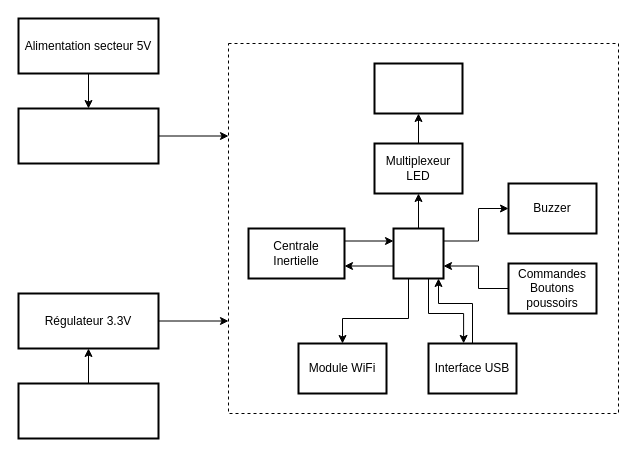
Image size: 636x456. Some labels were removed from this diagram. Each missing label, with the centre of its shape:
Batterie: [88,410]
LEDs: [418,88]
PIC32: [418,253]
Régulateur Buck 3.3V: [88,135]
